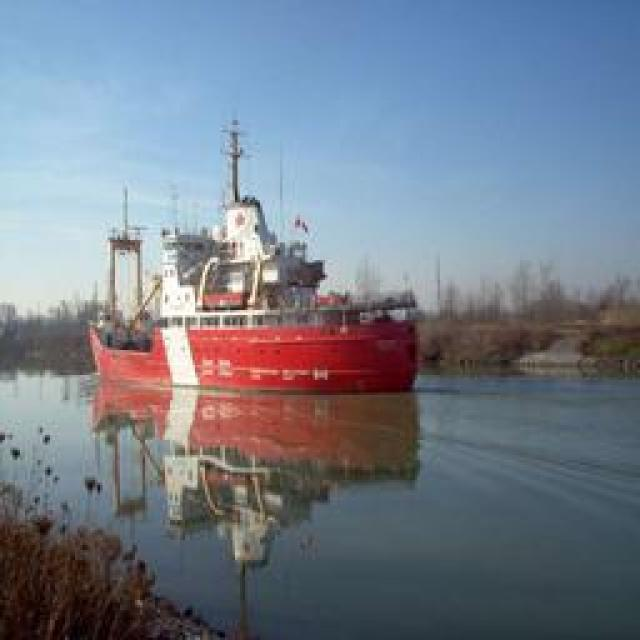ship2: (86, 119, 421, 398)
